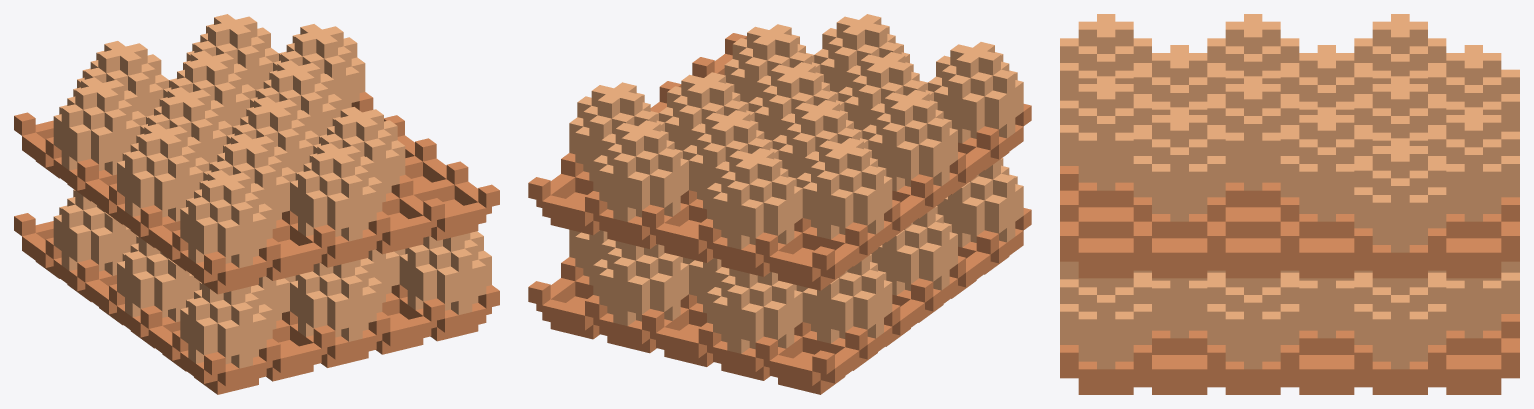
File: Egg.fbx
3 renders of one model, left to right at view 1: azimuth 30°, elevation 25°; view 2: azimuth 150°, elevation 25°; view 3: azimuth 270°, elevation 25°, orthographic. The views are drawn at different scales.
Visible parts, largest first — view 1: egg:egg; view 2: egg:egg; view 3: egg:egg.
Part boxes in pixels (x1,y1,x2,y2): egg:egg: [14, 14, 499, 394]; egg:egg: [528, 14, 1031, 394]; egg:egg: [1060, 14, 1519, 394].
Bounding box in the file's own units: 21 × 14 × 25.
